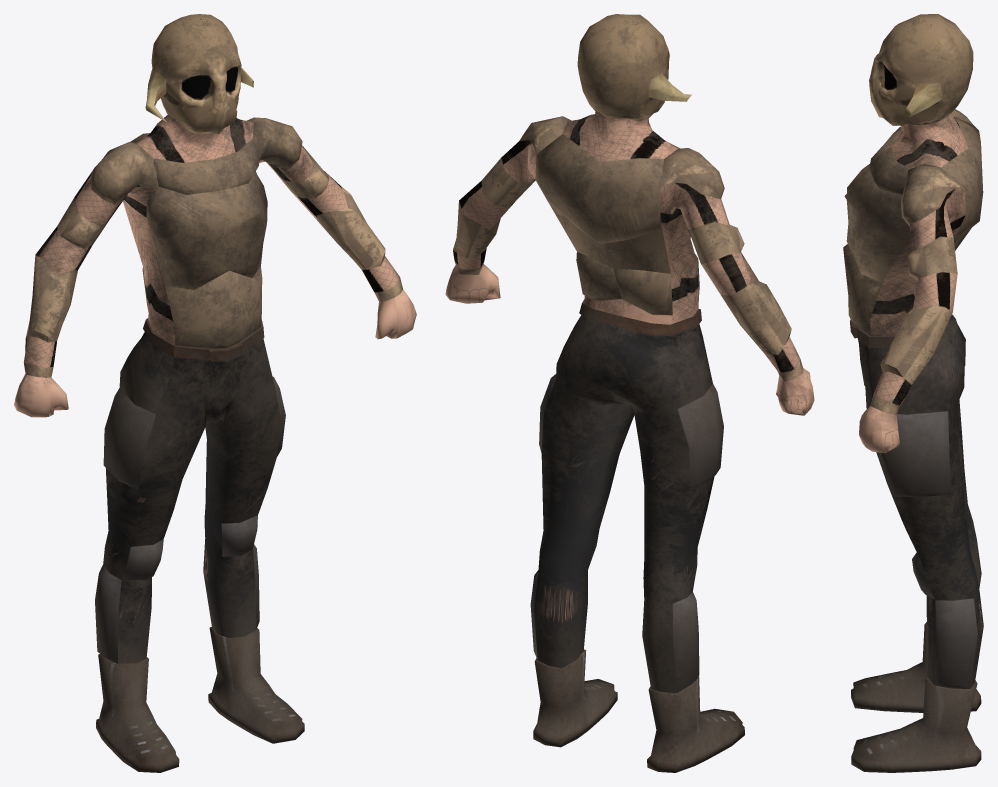
Rendered from Anim_idle_npc1.0026.obj.
3 renders of one model, left to right at view 1: azimuth 30°, elevation 25°; view 2: azimuth 150°, elevation 25°; view 3: azimuth 270°, elevation 25°, orthographic.
Parts seen in each view (by area): view 1: NPC2; view 2: NPC2; view 3: NPC2.
Part boxes in pixels (x1=…): NPC2: x1=14, y1=14, x2=416, y2=772; NPC2: x1=445, y1=14, x2=814, y2=772; NPC2: x1=843, y1=14, x2=983, y2=772.
Bounding box in the file's own units: 5.37 × 9.68 × 1.72.
